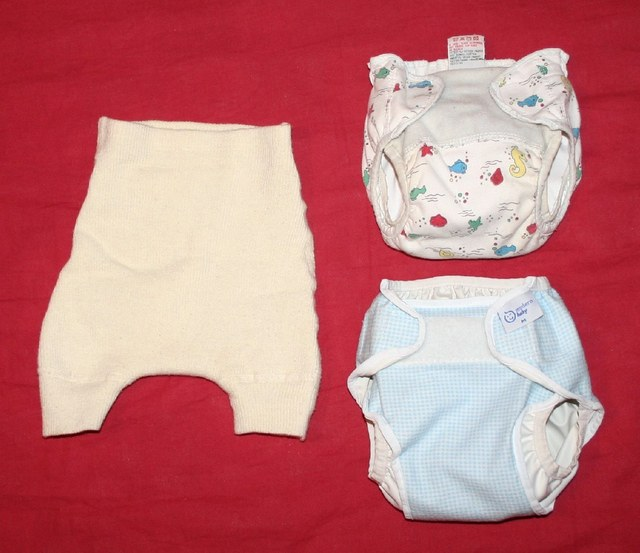Happa Organic Puree: (32, 28, 608, 525)
